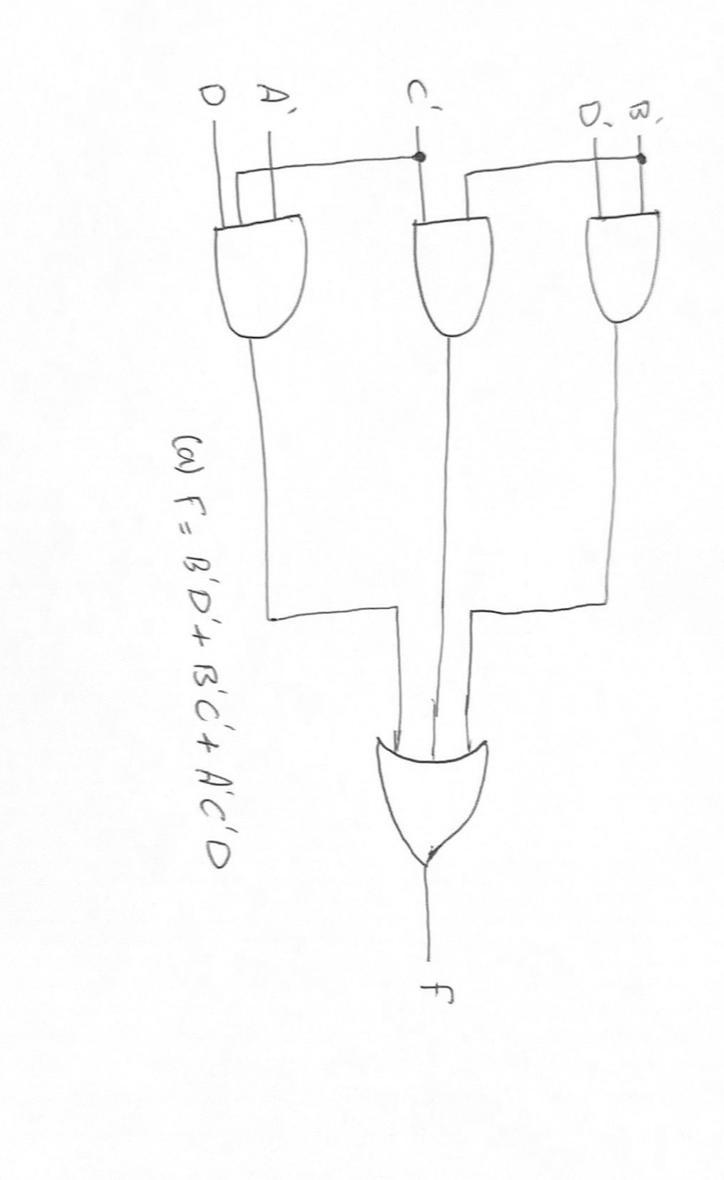AND: (195, 202, 336, 350), (390, 202, 516, 347), (565, 198, 685, 334)
OR: (357, 720, 508, 881)
